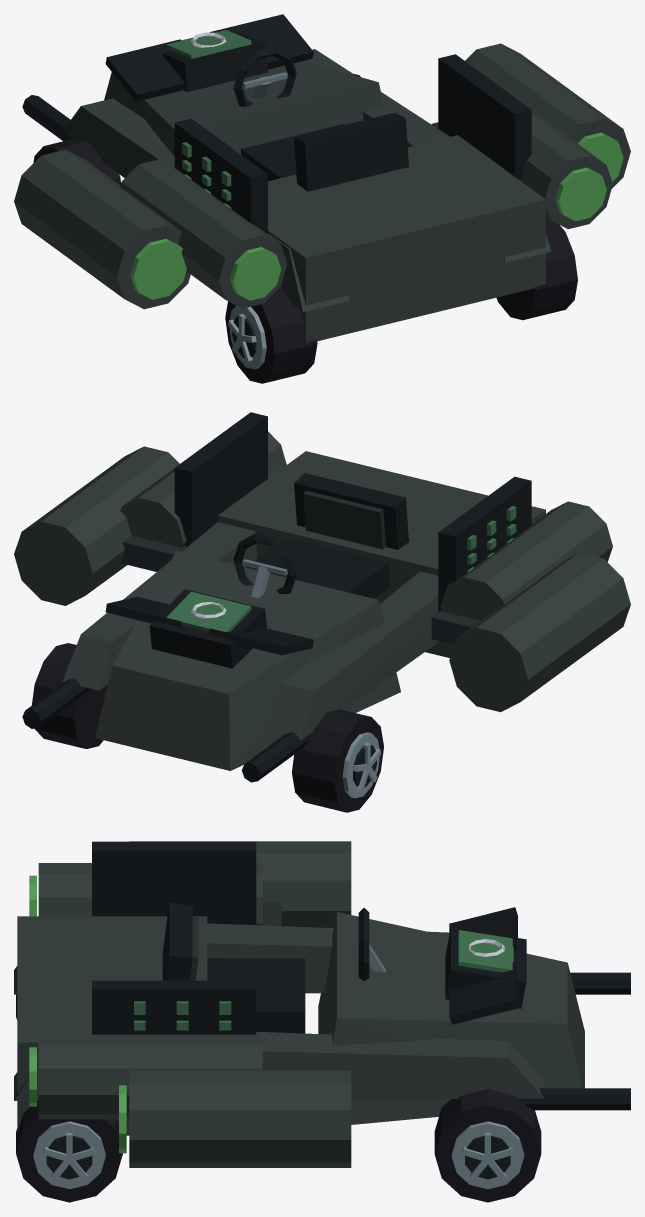
The model's file is kart.glb.
The picture shows the model from 3 angles, top to bottom: view 1: azimuth 30°, elevation 25°; view 2: azimuth 150°, elevation 25°; view 3: azimuth 270°, elevation 25°; orthographic projection. The views are drawn at different scales.
Visible parts, largest first — view 1: identity-gunship-gunship-armored-cargo-fuselage, identity-gunship-motif-engine-pods, identity-gunship-motif-matrix, identity-gunship-driver-cockpit, wheel-rear-left, identity-gunship-motif-scanner, wheel-rear-right, wheel-front-left; view 2: identity-gunship-gunship-armored-cargo-fuselage, identity-gunship-motif-matrix, identity-gunship-driver-cockpit, identity-gunship-motif-engine-pods, wheel-front-left, identity-gunship-motif-scanner, wheel-front-right; view 3: identity-gunship-gunship-armored-cargo-fuselage, identity-gunship-motif-matrix, identity-gunship-motif-engine-pods, wheel-front-right, identity-gunship-driver-cockpit, wheel-rear-right, identity-gunship-motif-scanner.
Boxes of the visible parts, x1,y1,x2,y2 form: identity-gunship-gunship-armored-cargo-fuselage: (14, 14, 630, 342); identity-gunship-motif-engine-pods: (120, 110, 612, 308); identity-gunship-motif-matrix: (174, 54, 531, 234); identity-gunship-driver-cockpit: (233, 46, 408, 191); wheel-rear-left: (225, 287, 317, 383); identity-gunship-motif-scanner: (161, 30, 267, 92); wheel-rear-right: (496, 217, 577, 320); wheel-front-left: (33, 138, 120, 185); identity-gunship-gunship-armored-cargo-fuselage: (14, 446, 630, 782); identity-gunship-motif-matrix: (174, 412, 531, 611); identity-gunship-driver-cockpit: (233, 473, 408, 598); identity-gunship-motif-engine-pods: (120, 431, 612, 620); wheel-front-left: (292, 709, 383, 812); identity-gunship-motif-scanner: (149, 589, 266, 668); wheel-front-right: (32, 643, 107, 748); identity-gunship-gunship-armored-cargo-fuselage: (14, 841, 630, 1167); identity-gunship-motif-matrix: (92, 841, 256, 1034); identity-gunship-motif-engine-pods: (29, 863, 262, 1119); wheel-front-right: (434, 1089, 541, 1202); identity-gunship-driver-cockpit: (162, 902, 385, 1033); wheel-rear-right: (16, 1101, 122, 1202); identity-gunship-motif-scanner: (445, 927, 526, 1008).
Size of the model in its own units: 3 by 1.09 by 2.89.
